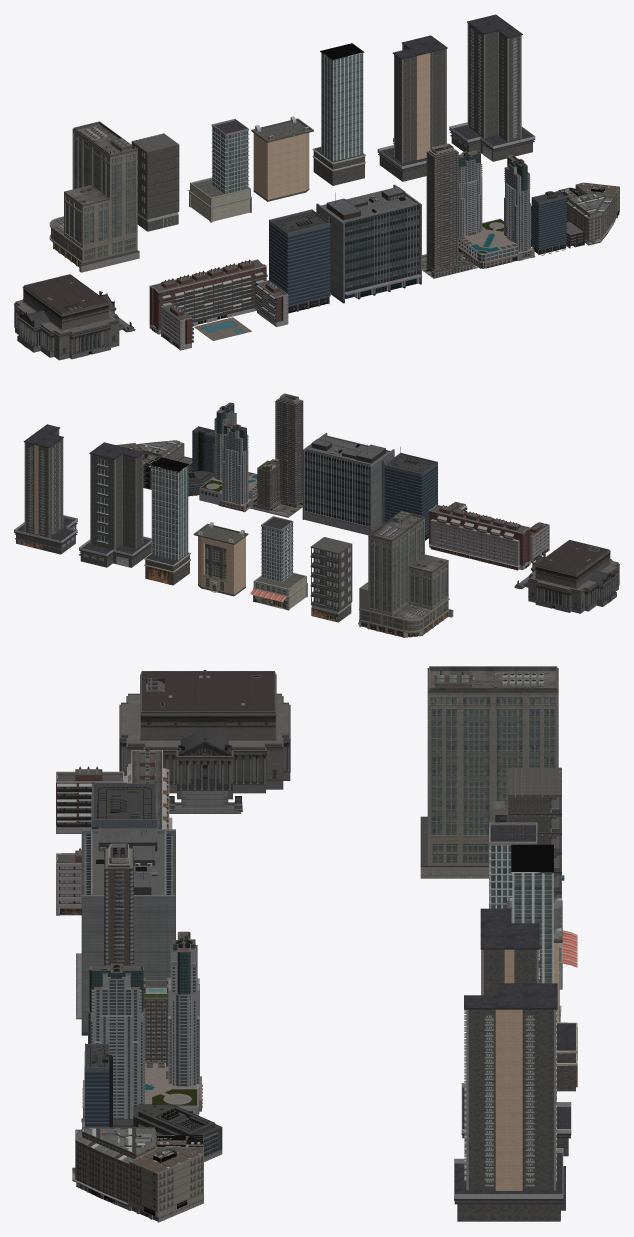
Rendered from Allbuildingsfbx.fbx.
The picture shows the model from 3 angles, top to bottom: view 1: azimuth 30°, elevation 25°; view 2: azimuth 150°, elevation 25°; view 3: azimuth 270°, elevation 25°; orthographic projection. The views are drawn at different scales.
Parts seen in each view (by area): view 1: bina.007, bina.001, bina.008, bina.003, bina.005, bina.010, bina, bina.036, bina.009, bina.006, bina.013, bina.015 (+4 smaller); view 2: bina.007, bina.001, bina.010, bina.008, bina.005, bina.003, bina.036, bina.006, bina, bina.013, bina.012, bina.009 (+4 smaller); view 3: bina.007, bina.003, bina.005, bina, bina.001, bina.004, bina.008, bina.036, bina.006, bina.010, bina.014, bina.012 (+4 smaller).
Part boxes in pixels (bbox=[...]): bina.007: bbox=[49, 121, 139, 272]; bina.001: bbox=[316, 184, 422, 303]; bina.008: bbox=[149, 259, 288, 350]; bina.003: bbox=[449, 14, 535, 161]; bina.005: bbox=[14, 274, 135, 360]; bina.010: bbox=[377, 35, 447, 181]; bina: bbox=[458, 150, 535, 268]; bina.036: bbox=[312, 43, 365, 185]; bina.009: bbox=[269, 209, 330, 313]; bina.006: bbox=[422, 141, 477, 278]; bina.013: bbox=[187, 119, 251, 222]; bina.015: bbox=[251, 116, 313, 201]; bina.007: bbox=[358, 511, 453, 637]; bina.001: bbox=[302, 432, 394, 535]; bina.010: bbox=[79, 442, 151, 567]; bina.008: bbox=[428, 501, 549, 570]; bina.005: bbox=[514, 540, 619, 613]; bina.003: bbox=[14, 424, 77, 554]; bina.036: bbox=[144, 457, 190, 585]; bina.006: bbox=[250, 393, 303, 517]; bina: bbox=[199, 402, 257, 512]; bina.013: bbox=[250, 516, 307, 610]; bina.012: bbox=[310, 537, 352, 622]; bina.009: bbox=[384, 447, 437, 540]; bina.007: bbox=[420, 666, 564, 880]; bina.003: bbox=[454, 983, 565, 1221]; bina.005: bbox=[119, 670, 290, 813]; bina: bbox=[81, 931, 202, 1129]; bina.001: bbox=[76, 812, 175, 1035]; bina.004: bbox=[72, 1127, 203, 1222]; bina.008: bbox=[56, 749, 172, 915]; bina.036: bbox=[511, 844, 577, 1091]; bina.006: bbox=[104, 843, 170, 1066]; bina.010: bbox=[461, 908, 571, 1156]; bina.014: bbox=[84, 1043, 222, 1161]; bina.012: bbox=[508, 767, 561, 900].
Size of what is drawn, in the model's own units: 25799 by 5421 by 11511.
